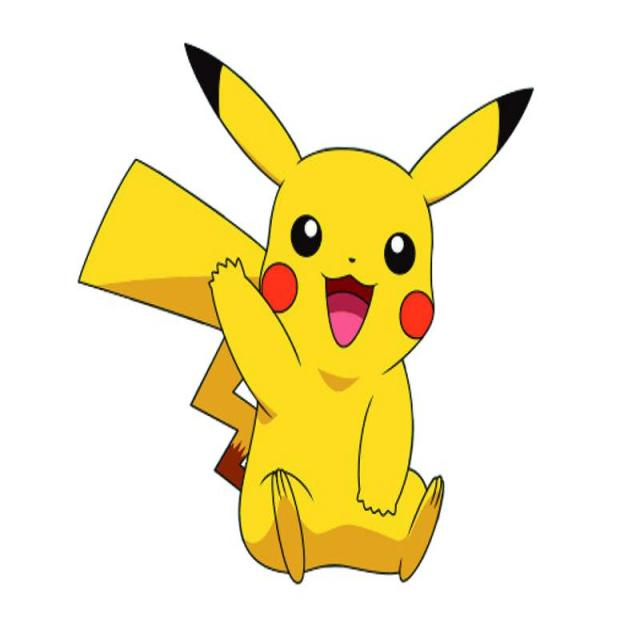pikachu: (78, 44, 537, 586)
